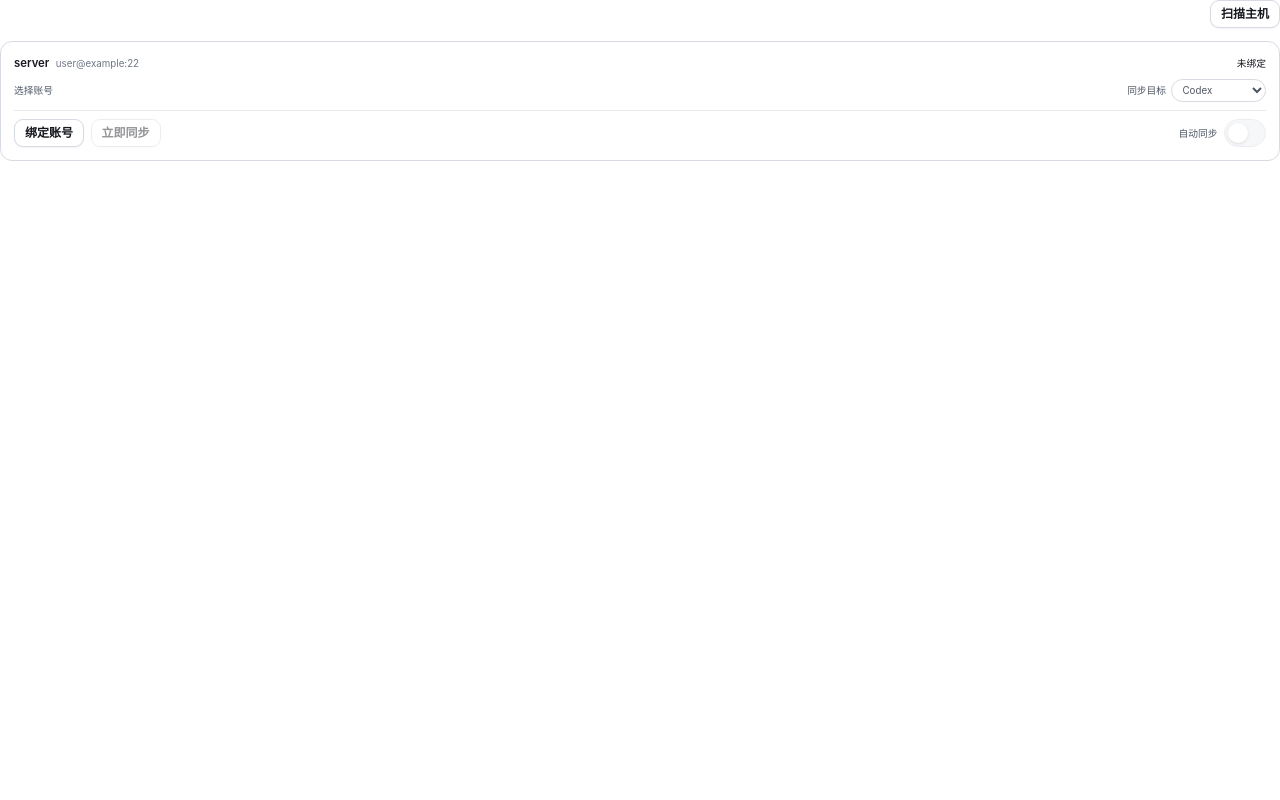
Scenario: 账号分发 › 绑定失败时保留编辑内容且不会误显示已保存
Click the button "绑定账号". click: click(49, 133)
box: [14,119,84,147]
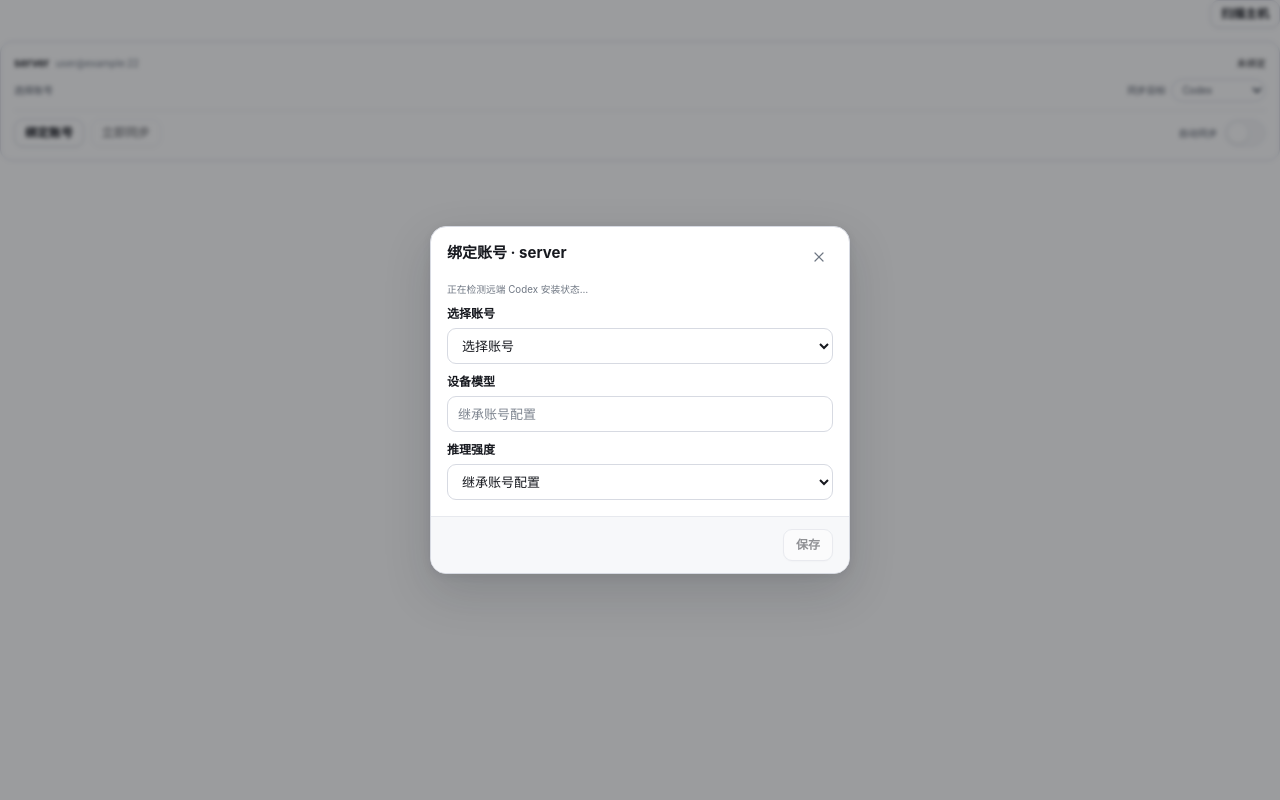
Select "中转账号 · 中转站" in the dropdown labelled "选择账号". click: (640, 346)
box: [447,328,833,364]
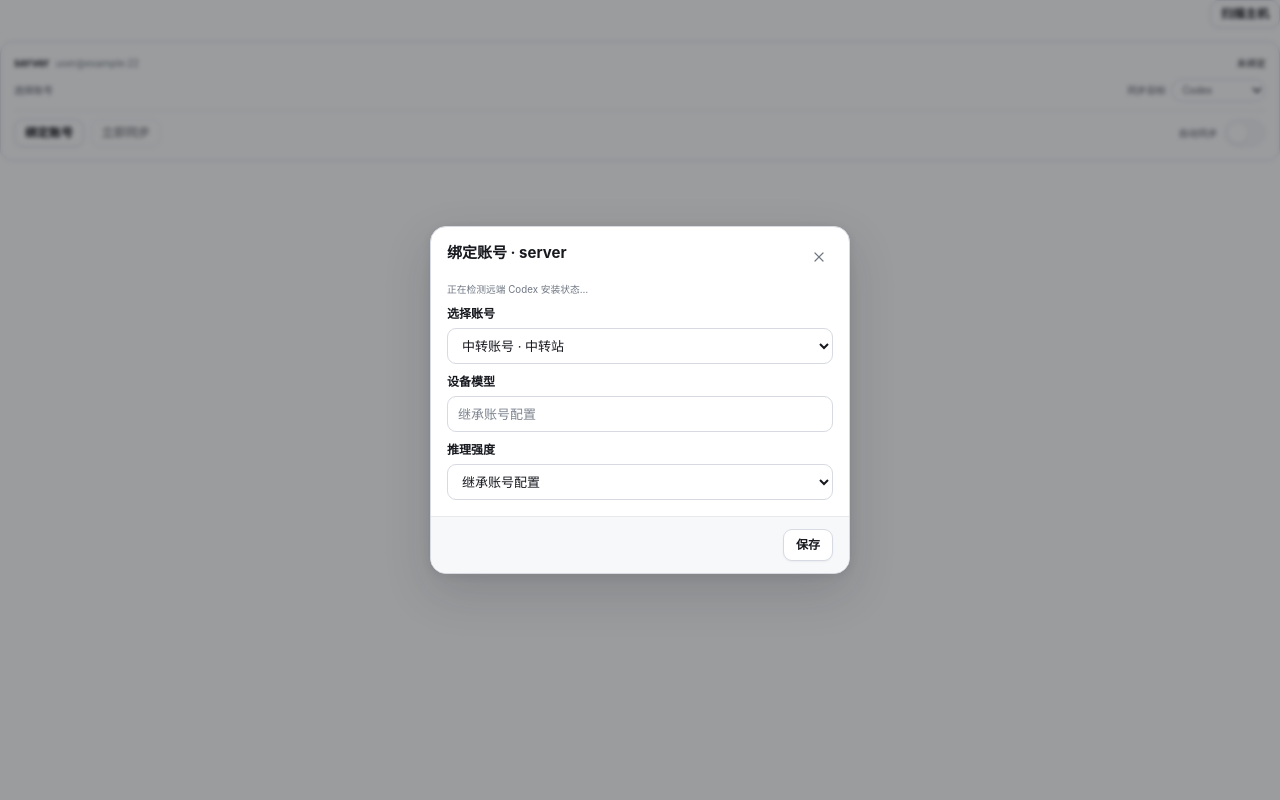
Click the button "保存". click: click(808, 545)
box: [783,529,833,561]
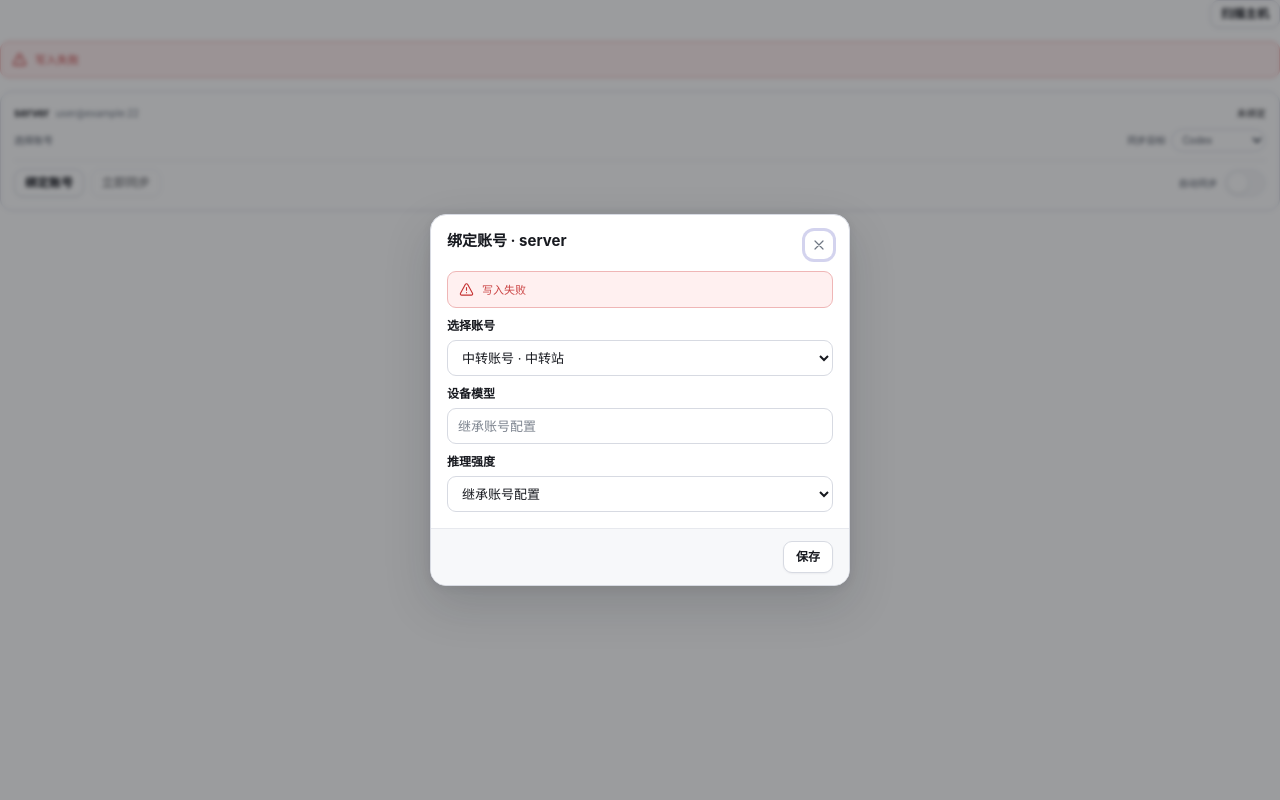
Result: the dialog shows "写入失败" at [482,283,526,297]
